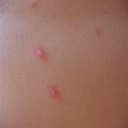Chickenpox: (44, 84, 64, 100), (34, 46, 48, 59)
